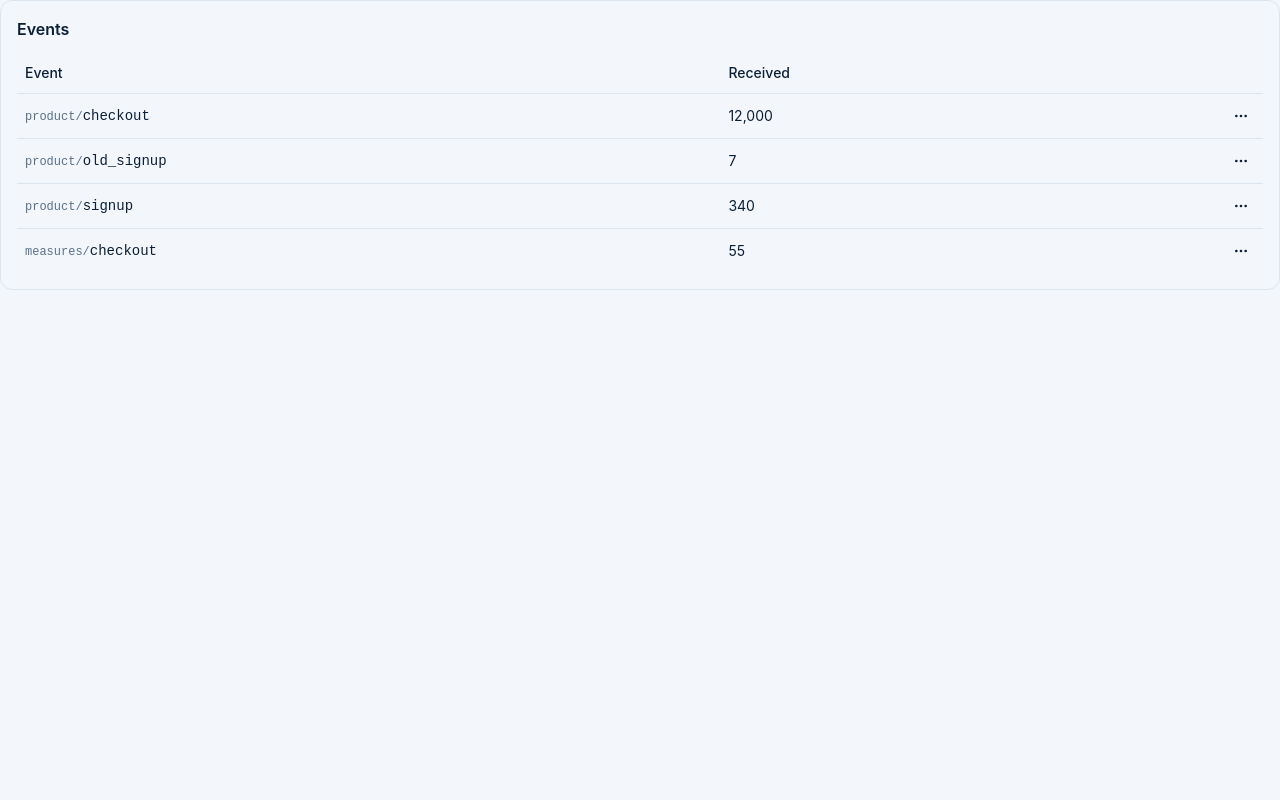
Test: EventsSection › refuses a name the family already has, pointing to Merge into
Click the button named "Actions for old_signup (product)": (1241, 160) [1227,146,1255,174]
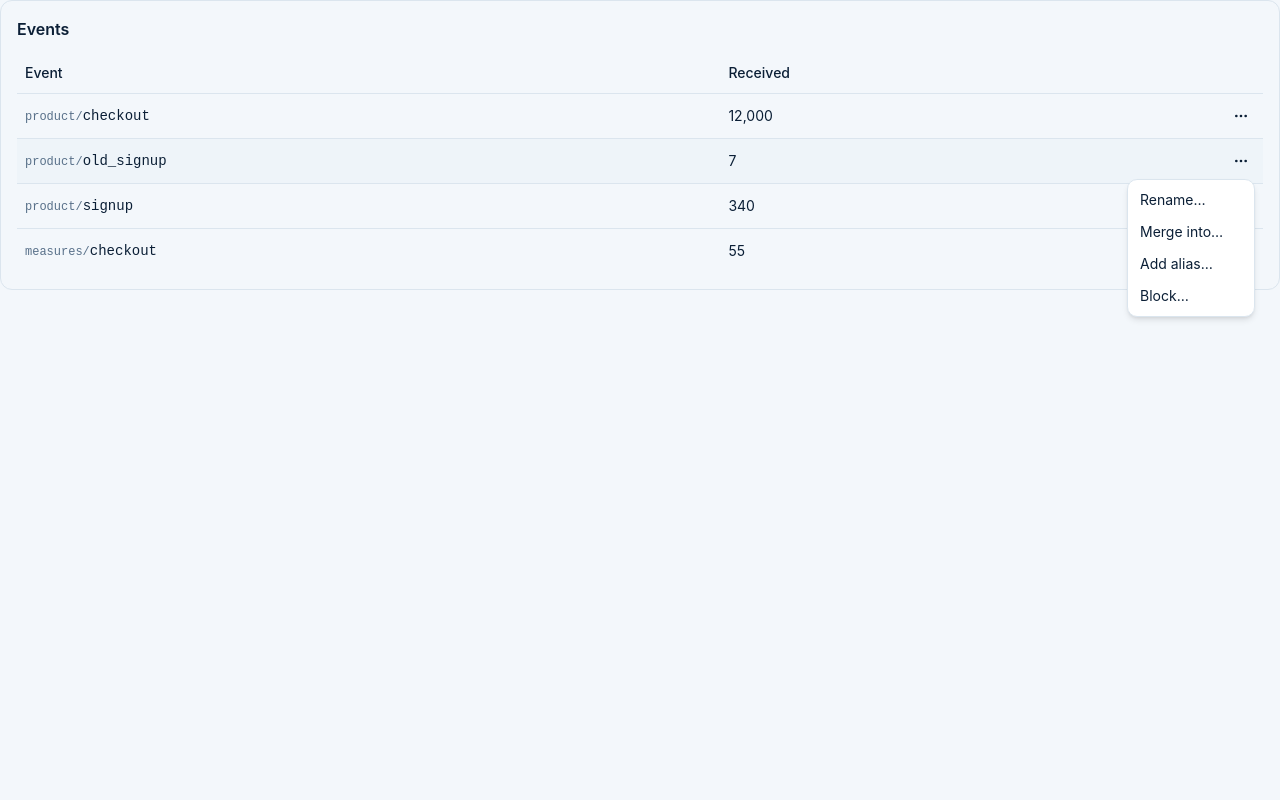
Click the menu item "Rename…": (1173, 200) [1140,191,1206,208]
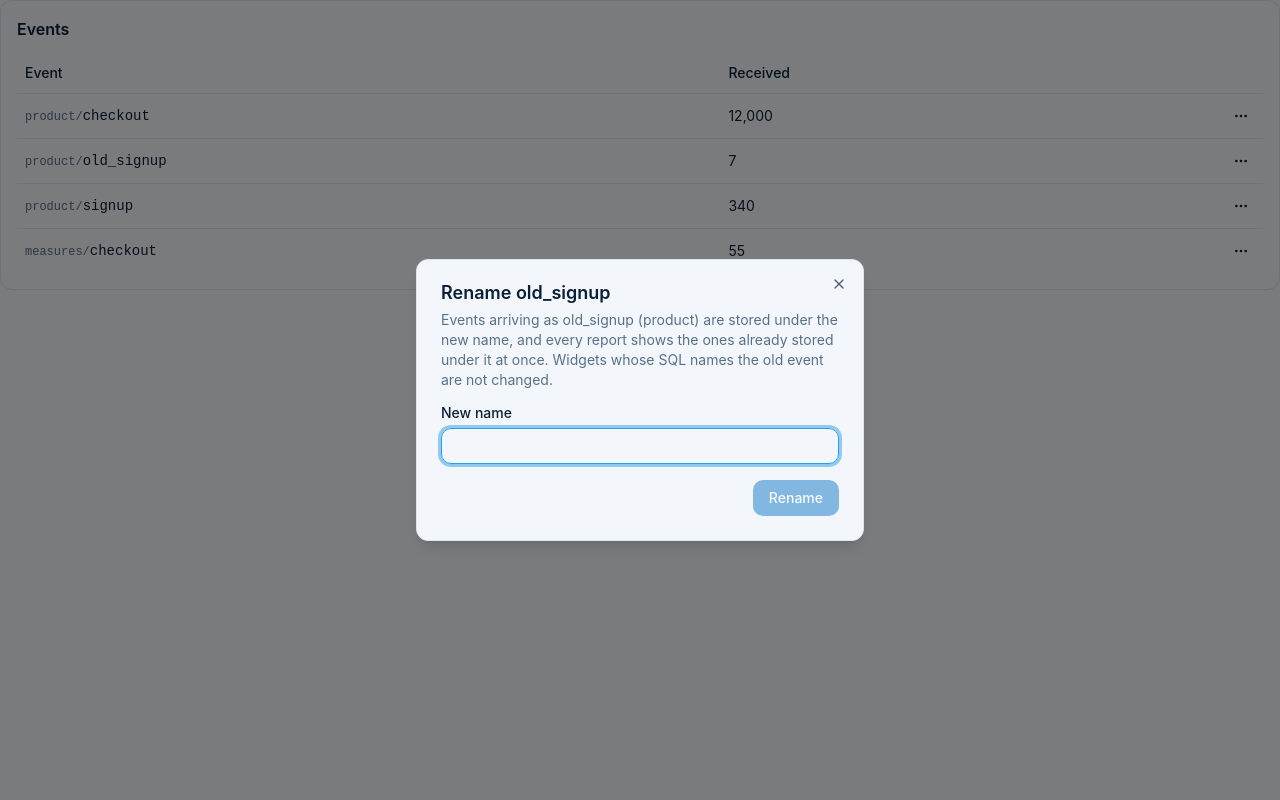
In the field: (640, 446) [441,428,839,464], type "signup"
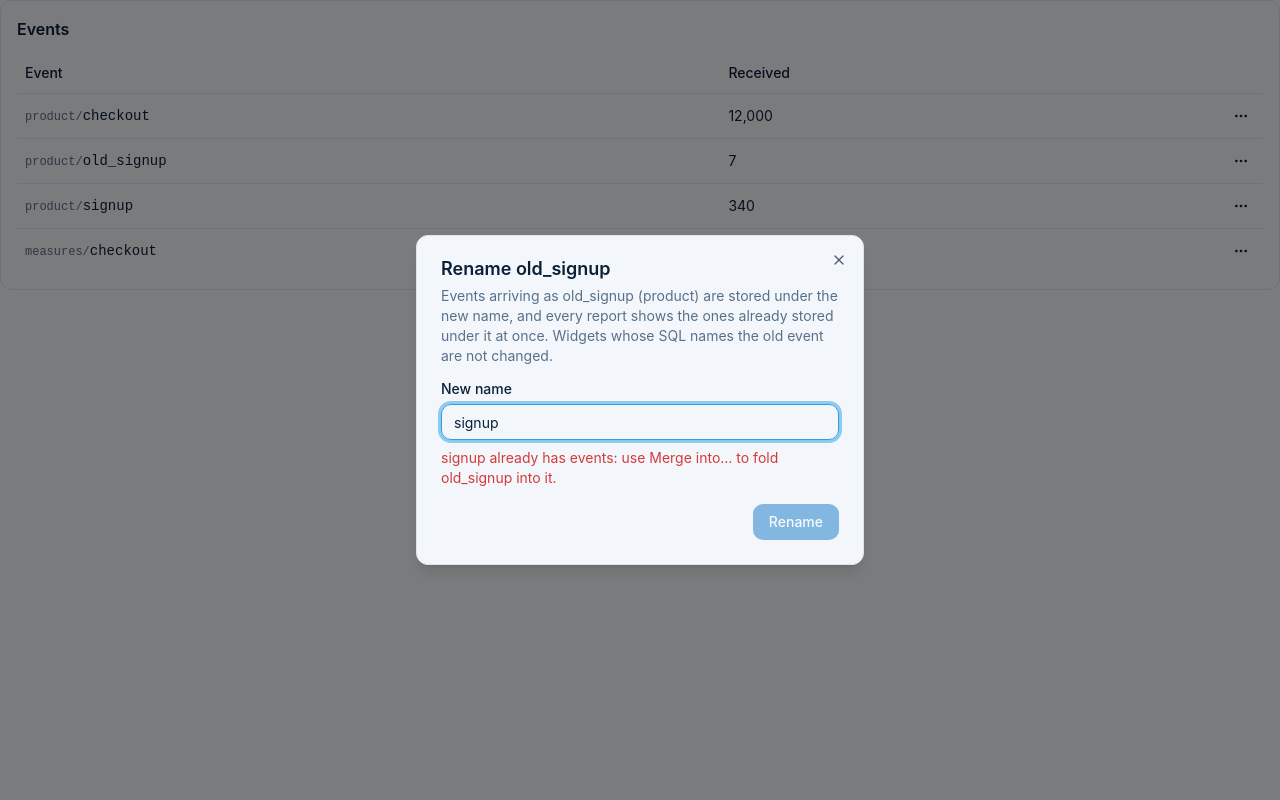
Now the button "Rename" is disabled, box [753,504,839,540]
Now the message reads "signup already has events: use Merge into… to fold old_signup into it.", box [441,449,778,486]
